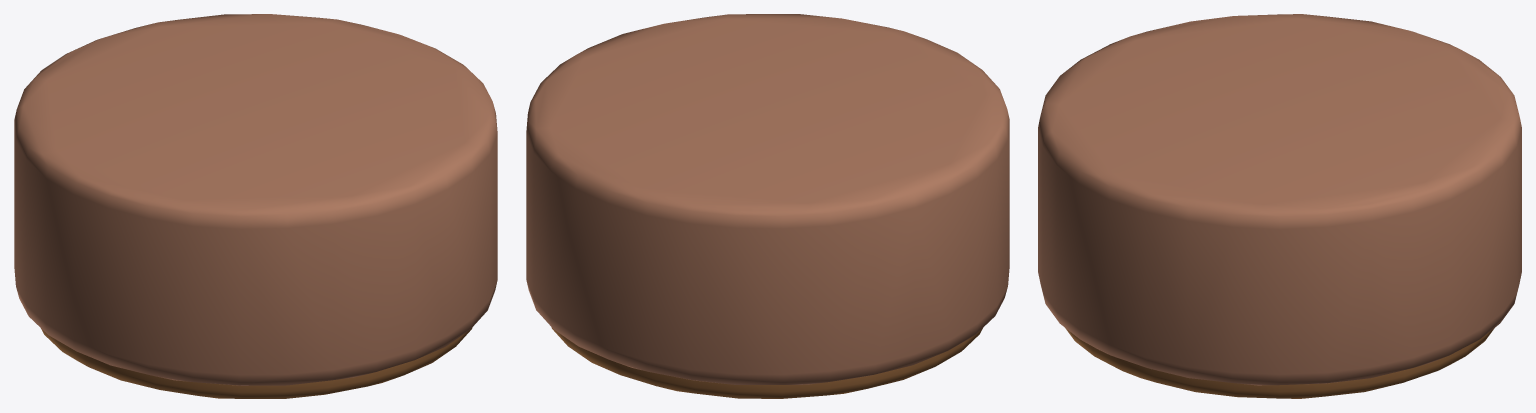
File: stool_04_brown.fbx
The picture shows the model from 3 angles, left to right: view 1: azimuth 30°, elevation 25°; view 2: azimuth 150°, elevation 25°; view 3: azimuth 270°, elevation 25°; orthographic projection.
Visible parts, largest first — view 1: stool_04_brown; view 2: stool_04_brown; view 3: stool_04_brown.
Boxes of the visible parts, <box> form: stool_04_brown: <box>14,14,497,398</box>; stool_04_brown: <box>526,14,1009,398</box>; stool_04_brown: <box>1038,14,1521,398</box>.
Size of the model in its own units: 86.76 by 38.97 by 86.76.
Materials: 2 (2 with a texture image).
